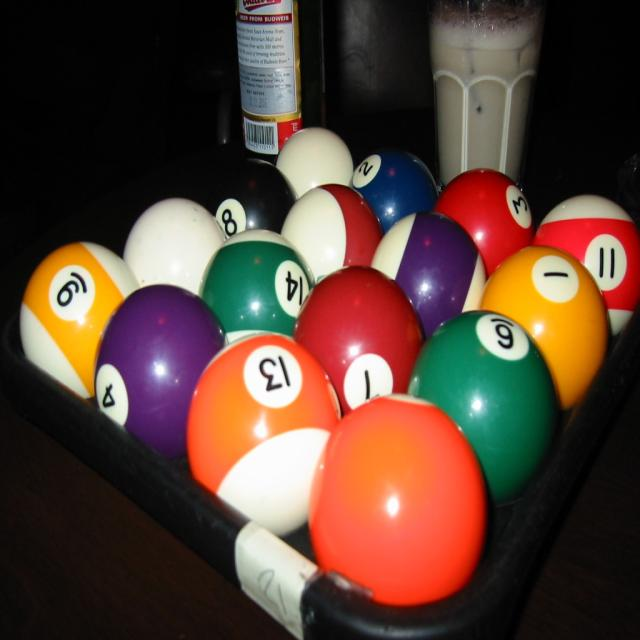Ball: (19, 128, 640, 606)
